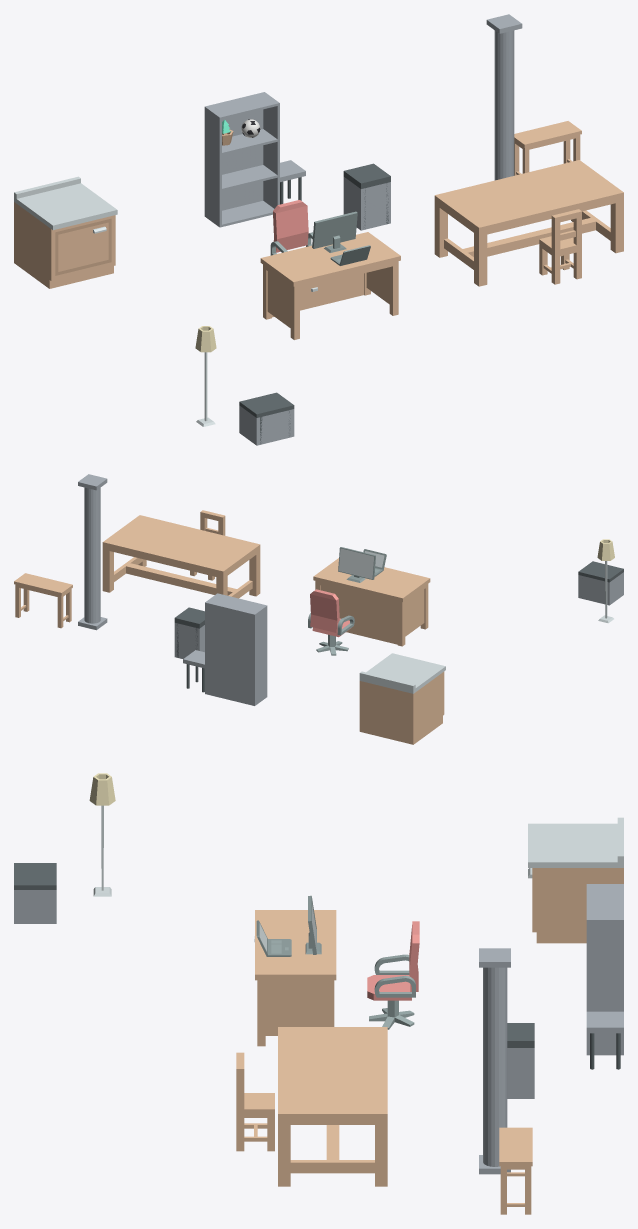
3 renders of one model, top to bottom at view 1: azimuth 30°, elevation 25°; view 2: azimuth 150°, elevation 25°; view 3: azimuth 270°, elevation 25°, orthographic. The views are drawn at different scales.
Parts seen in each view (by area): view 1: table_green__table(Clone), desk_blue__desk(Clone), cabinet_blue__kitchenCabinet(Clone), column_cyan__column_cyan shaft, cabinet_blue__door, shelf_orange__shelf_orange back, chair_cyan__chair(Clone), shelf_orange__shelf_orange side_l, sidetable_brown__sideTable(Clone), bin_gray__bin_gray shell, deskchair_black__chair, crate_red__crate_red shell (+9 smaller); view 2: table_green__table(Clone), cabinet_blue__kitchenCabinet(Clone), desk_blue__desk(Clone), shelf_orange__shelf_orange back, column_cyan__column_cyan shaft, sidetable_brown__sideTable(Clone), deskchair_black__chair, shelf_orange__shelf_orange side_l, monitor_gray__computerScreen(Clone), crate_red__crate_red shell, bin_gray__bin_gray shell, lamp_white__lampRoundFloor(Clone) (+4 smaller); view 3: table_green__table(Clone), cabinet_blue__kitchenCabinet(Clone), desk_blue__desk(Clone), column_cyan__column_cyan shaft, shelf_orange__shelf_orange side_r, sidetable_brown__sideTable(Clone), deskchair_black__chair, chair_cyan__chair(Clone), crate_red__crate_red shell, bin_gray__bin_gray shell, shelf_orange__shelf_orange board3, crate_red__crate_red lid (+6 smaller).
Part boxes in pixels (x1=…): table_green__table(Clone): x1=434, y1=160, x2=623, y2=286; desk_blue__desk(Clone): x1=260, y1=232, x2=400, y2=339; cabinet_blue__kitchenCabinet(Clone): x1=14, y1=176, x2=117, y2=288; column_cyan__column_cyan shaft: x1=494, y1=30, x2=514, y2=180; cabinet_blue__door: x1=55, y1=218, x2=111, y2=275; shelf_orange__shelf_orange back: x1=207, y1=92, x2=263, y2=210; chair_cyan__chair(Clone): x1=539, y1=209, x2=581, y2=284; shelf_orange__shelf_orange side_l: x1=204, y1=106, x2=221, y2=227; sidetable_brown__sideTable(Clone): x1=514, y1=121, x2=581, y2=175; bin_gray__bin_gray shell: x1=343, y1=177, x2=390, y2=230; deskchair_black__chair: x1=270, y1=200, x2=313, y2=255; crate_red__crate_red shell: x1=239, y1=405, x2=294, y2=445; table_green__table(Clone): x1=102, y1=515, x2=260, y2=598; cabinet_blue__kitchenCabinet(Clone): x1=359, y1=653, x2=445, y2=744; desk_blue__desk(Clone): x1=313, y1=558, x2=430, y2=646; shelf_orange__shelf_orange back: x1=206, y1=602, x2=253, y2=705; column_cyan__column_cyan shaft: x1=84, y1=487, x2=100, y2=623; sidetable_brown__sideTable(Clone): x1=14, y1=573, x2=72, y2=628; deskchair_black__chair: x1=308, y1=589, x2=354, y2=637; shelf_orange__shelf_orange side_l: x1=253, y1=605, x2=267, y2=705; monitor_gray__computerScreen(Clone): x1=338, y1=547, x2=375, y2=582; crate_red__crate_red shell: x1=578, y1=572, x2=623, y2=605; bin_gray__bin_gray shell: x1=174, y1=623, x2=204, y2=658; lamp_white__lampRoundFloor(Clone): x1=597, y1=539, x2=614, y2=623; table_green__table(Clone): x1=278, y1=1027, x2=387, y2=1186; cabinet_blue__kitchenCabinet(Clone): x1=528, y1=817, x2=623, y2=943; desk_blue__desk(Clone): x1=255, y1=910, x2=336, y2=1046; column_cyan__column_cyan shaft: x1=483, y1=967, x2=507, y2=1166; shelf_orange__shelf_orange side_r: x1=586, y1=918, x2=623, y2=1055; sidetable_brown__sideTable(Clone): x1=499, y1=1127, x2=532, y2=1214; deskchair_black__chair: x1=367, y1=921, x2=419, y2=1000; chair_cyan__chair(Clone): x1=236, y1=1052, x2=274, y2=1151; crate_red__crate_red shell: x1=14, y1=890, x2=56, y2=923; bin_gray__bin_gray shell: x1=507, y1=1048, x2=534, y2=1098; shelf_orange__shelf_orange board3: x1=586, y1=885, x2=621, y2=918; crate_red__crate_red lid: x1=14, y1=863, x2=56, y2=889.
Bounding box in the file's own units: 7.26 × 2.2 × 5.72.
